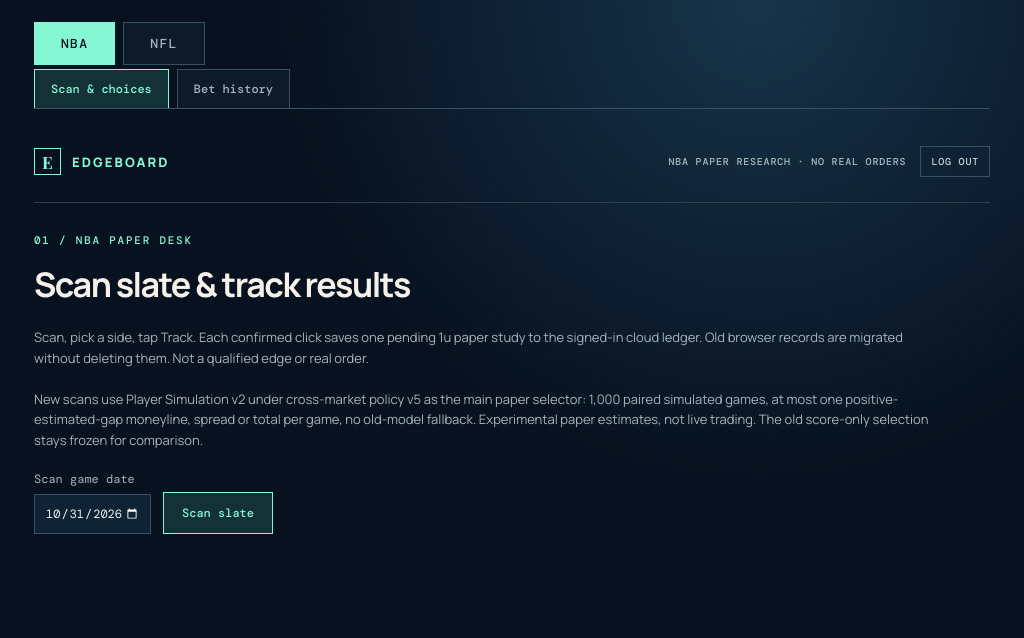
Scenario: Edgeboard dashboard › defaults new visitors to isolated NBA research and preserves the NFL ledger behind its tab
Expected: the button "Scan slate" is shown, x1=163 y1=492 x2=273 y2=534
Expected: the text "Legacy NFL" is not shown
Click the tab "NFL".
click(164, 44)  # box x1=123 y1=22 x2=205 y2=65
(page scrolled)
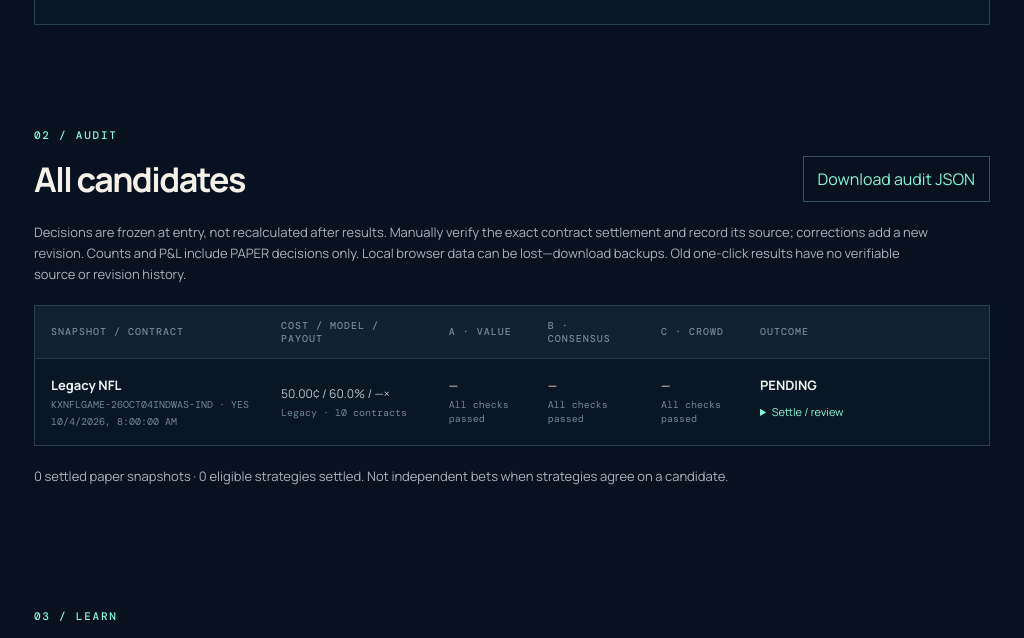
Expected: the text "Legacy NFL" is shown, x1=51 y1=376 x2=121 y2=394
